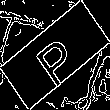P_NW: (28, 24, 82, 86)
